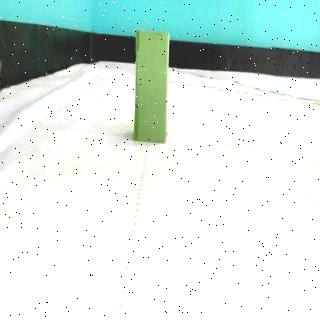greenbox: (134, 27, 170, 144)
